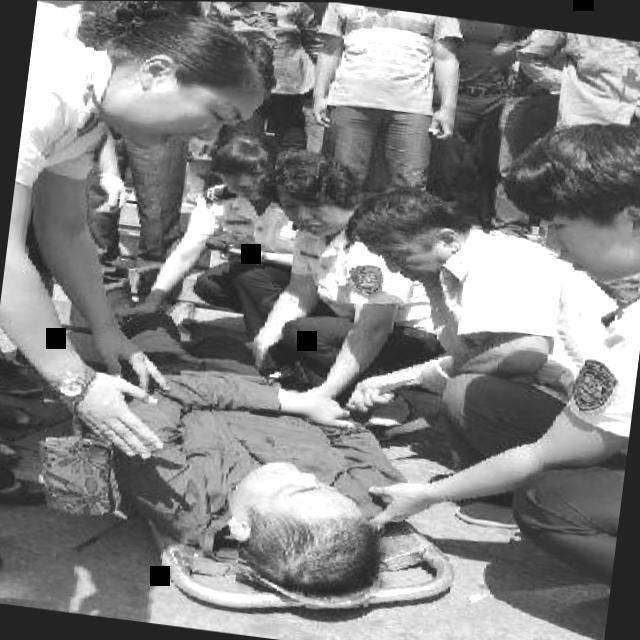Fall-Detected: (57, 262, 477, 625)
